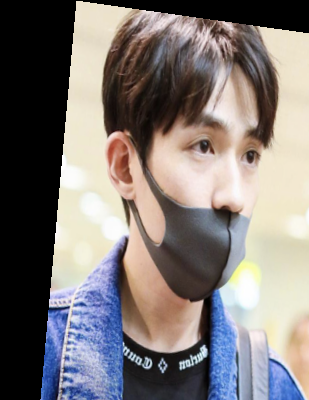mask_weared_incorrect: (95, 8, 295, 314)
